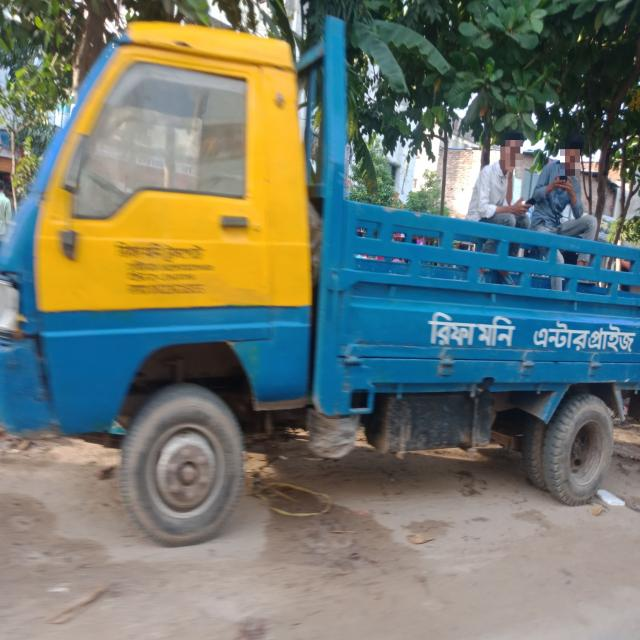truck: (0, 15, 640, 547)
